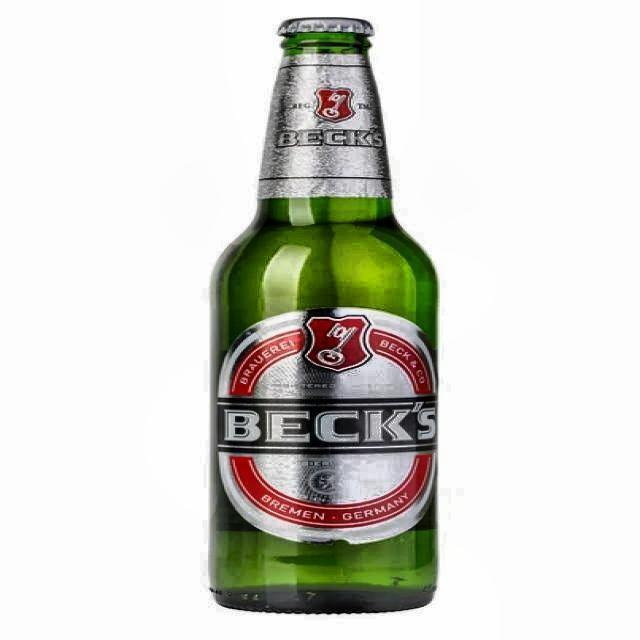glass: (208, 16, 440, 616)
